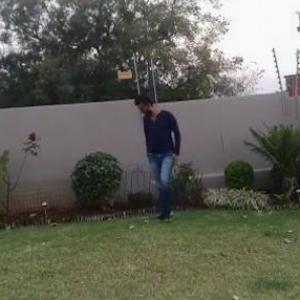follow: (142, 89, 186, 224)
